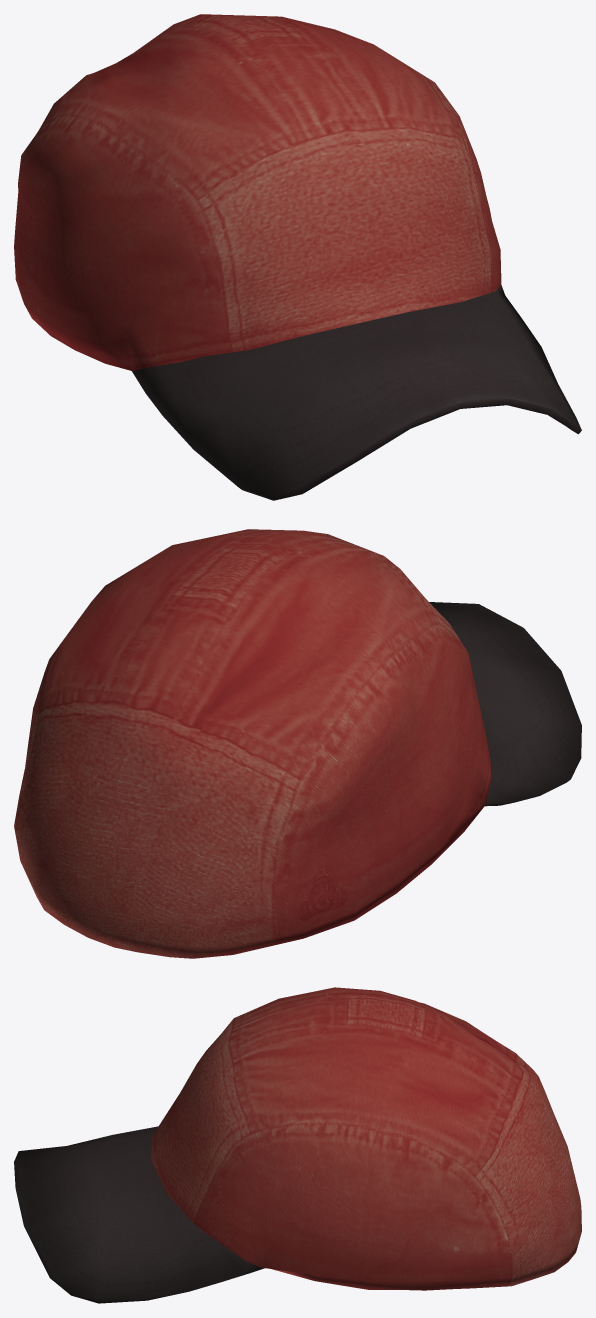
Rendered from Cap.FBX.
3 views of the same model, one above another, from view 1: azimuth 30°, elevation 25°; view 2: azimuth 150°, elevation 25°; view 3: azimuth 270°, elevation 25° (orthographic). The views are drawn at different scales.
Parts seen in each view (by area): view 1: cap; view 2: cap; view 3: cap.
Part boxes in pixels (box(x1,y1,x2,y2)): cap: box(14, 14, 581, 500); cap: box(14, 529, 581, 958); cap: box(14, 987, 581, 1303).
Size of the model in its own units: 15.65 by 12.02 by 25.29.
